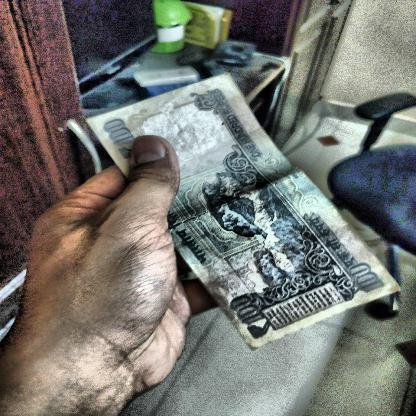Rs100: (222, 289, 280, 342), (342, 258, 391, 298)
